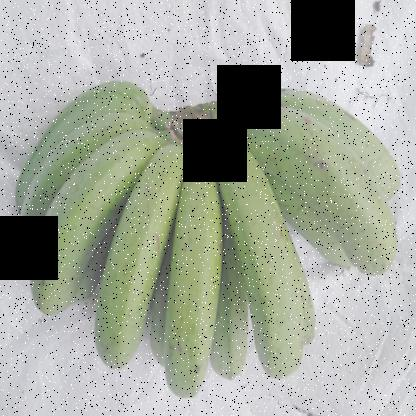unripe: (213, 107, 406, 278), (211, 128, 311, 394), (26, 128, 136, 322), (156, 143, 238, 398), (85, 160, 178, 377), (212, 244, 250, 389)
